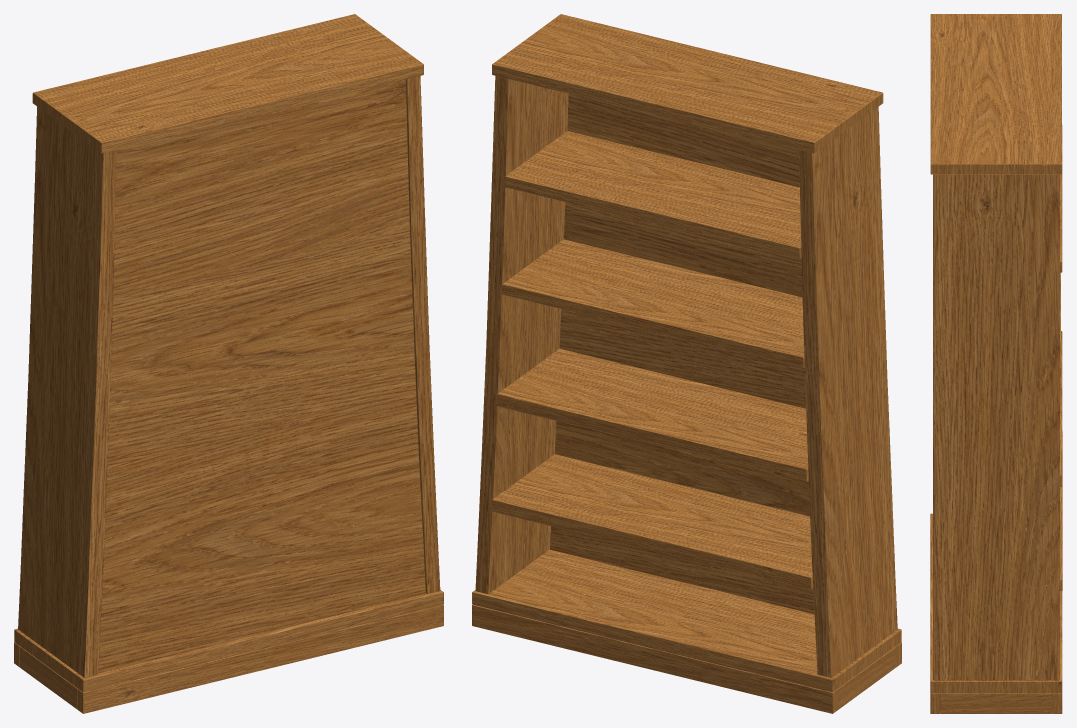
Rendered from shelf.glb.
3 views of the same model, side by side, from view 1: azimuth 30°, elevation 25°; view 2: azimuth 150°, elevation 25°; view 3: azimuth 270°, elevation 25° (orthographic). The views are drawn at different scales.
Visible parts, largest first — view 1: shelf; view 2: shelf; view 3: shelf.
Part boxes in pixels (bbox=[...]): shelf: bbox=[14, 14, 443, 713]; shelf: bbox=[472, 14, 901, 713]; shelf: bbox=[930, 14, 1062, 713].
Bounding box in the file's own units: 1.2 × 1.8 × 0.4.
Materials: 1 (1 with a texture image).
